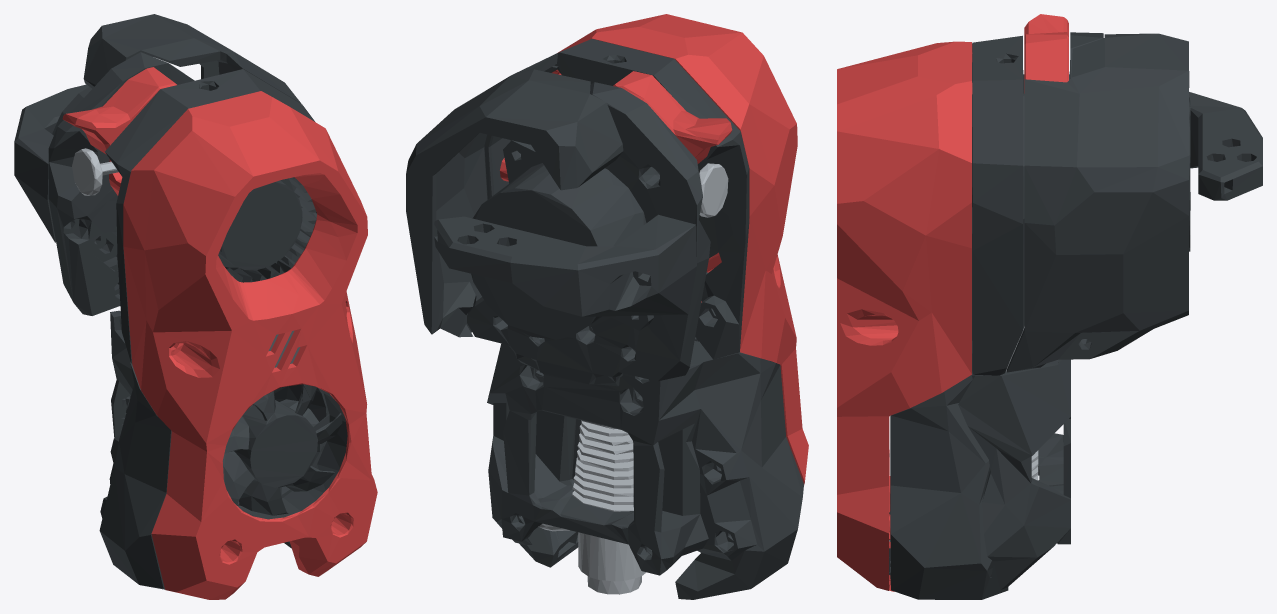
Rendered from stealthburner.glb.
3 renders of one model, left to right at view 1: azimuth 30°, elevation 25°; view 2: azimuth 150°, elevation 25°; view 3: azimuth 270°, elevation 25°, orthographic. The views are drawn at different scales.
Parts seen in each view (by area): view 1: VORON_ACCENT, SB_BODY, SB_HOTEND; view 2: SB_BODY, VORON_ACCENT, SB_HOTEND; view 3: SB_BODY, VORON_ACCENT.
Boxes of the visible parts, <box> form: VORON_ACCENT: <box>62,67,377,599</box>; SB_BODY: <box>14,14,347,589</box>; SB_HOTEND: <box>72,148,118,195</box>; SB_BODY: <box>406,39,803,599</box>; VORON_ACCENT: <box>499,14,808,484</box>; SB_HOTEND: <box>538,163,728,594</box>; SB_BODY: <box>890,32,1262,599</box>; VORON_ACCENT: <box>837,14,1068,591</box>.
Bounding box in the file's own units: 0.0711 × 0.1322 × 0.099.
